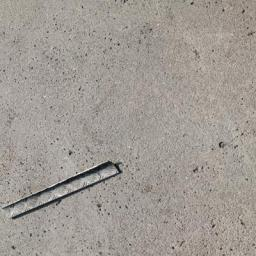FOD: (4, 160, 124, 222)
